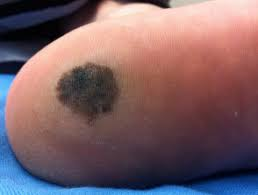melanoma: (44, 57, 139, 132)
